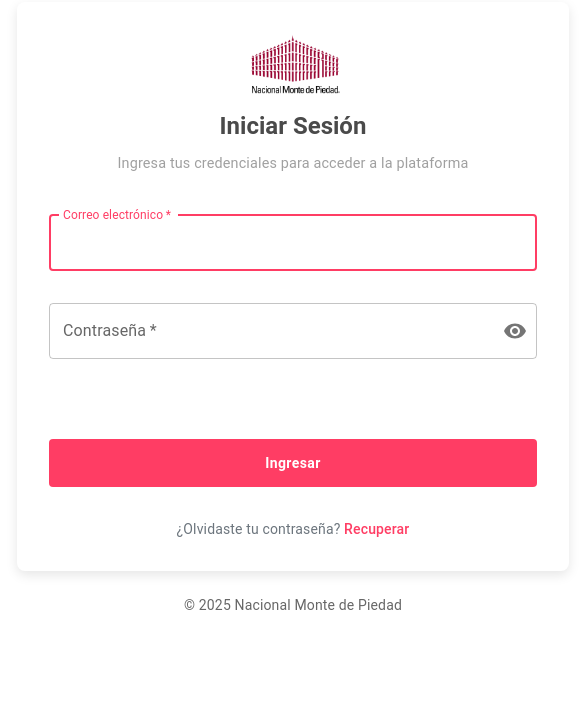
Test: Login Component › shows validation errors for empty fields
Click the button "Ingresar". click: click(293, 463)
box: [49,439,537,487]
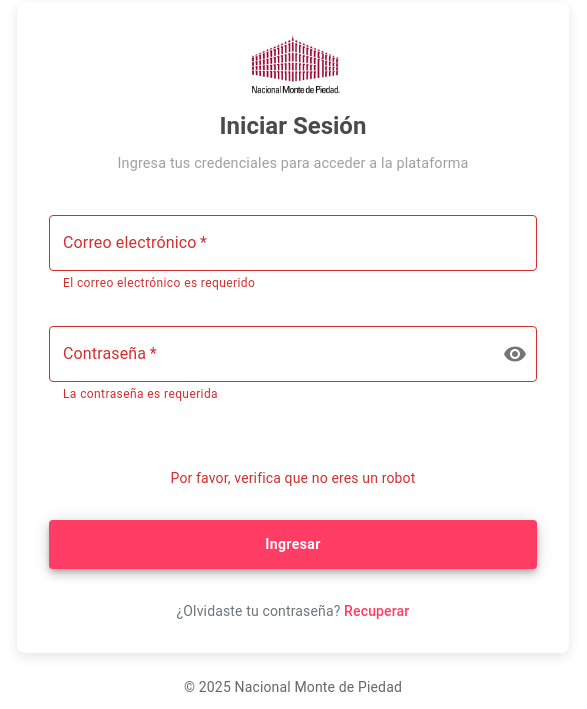
Expected: the text "El correo electrónico es requerido" is shown, [63,276,255,290]
Expected: the text "La contraseña es requerida" is shown, [63,386,218,400]
